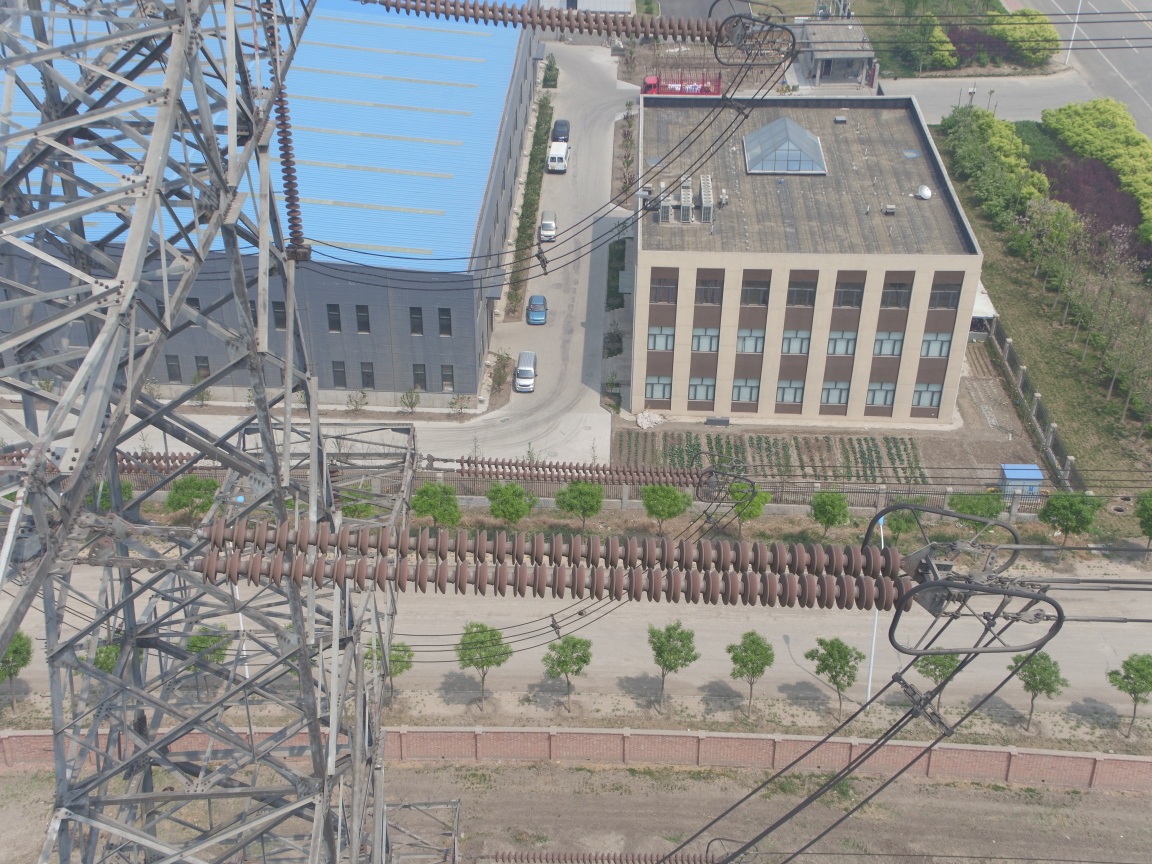insulator: (146, 511, 928, 614), (350, 1, 729, 46)
